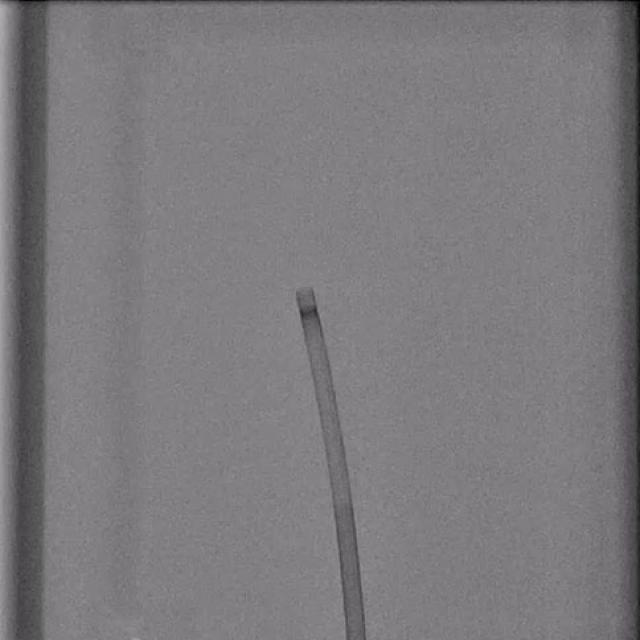bend: (331, 488, 352, 502)
entry: (346, 636, 366, 640)
marker: (299, 306, 319, 320)
tip: (295, 287, 313, 293)
